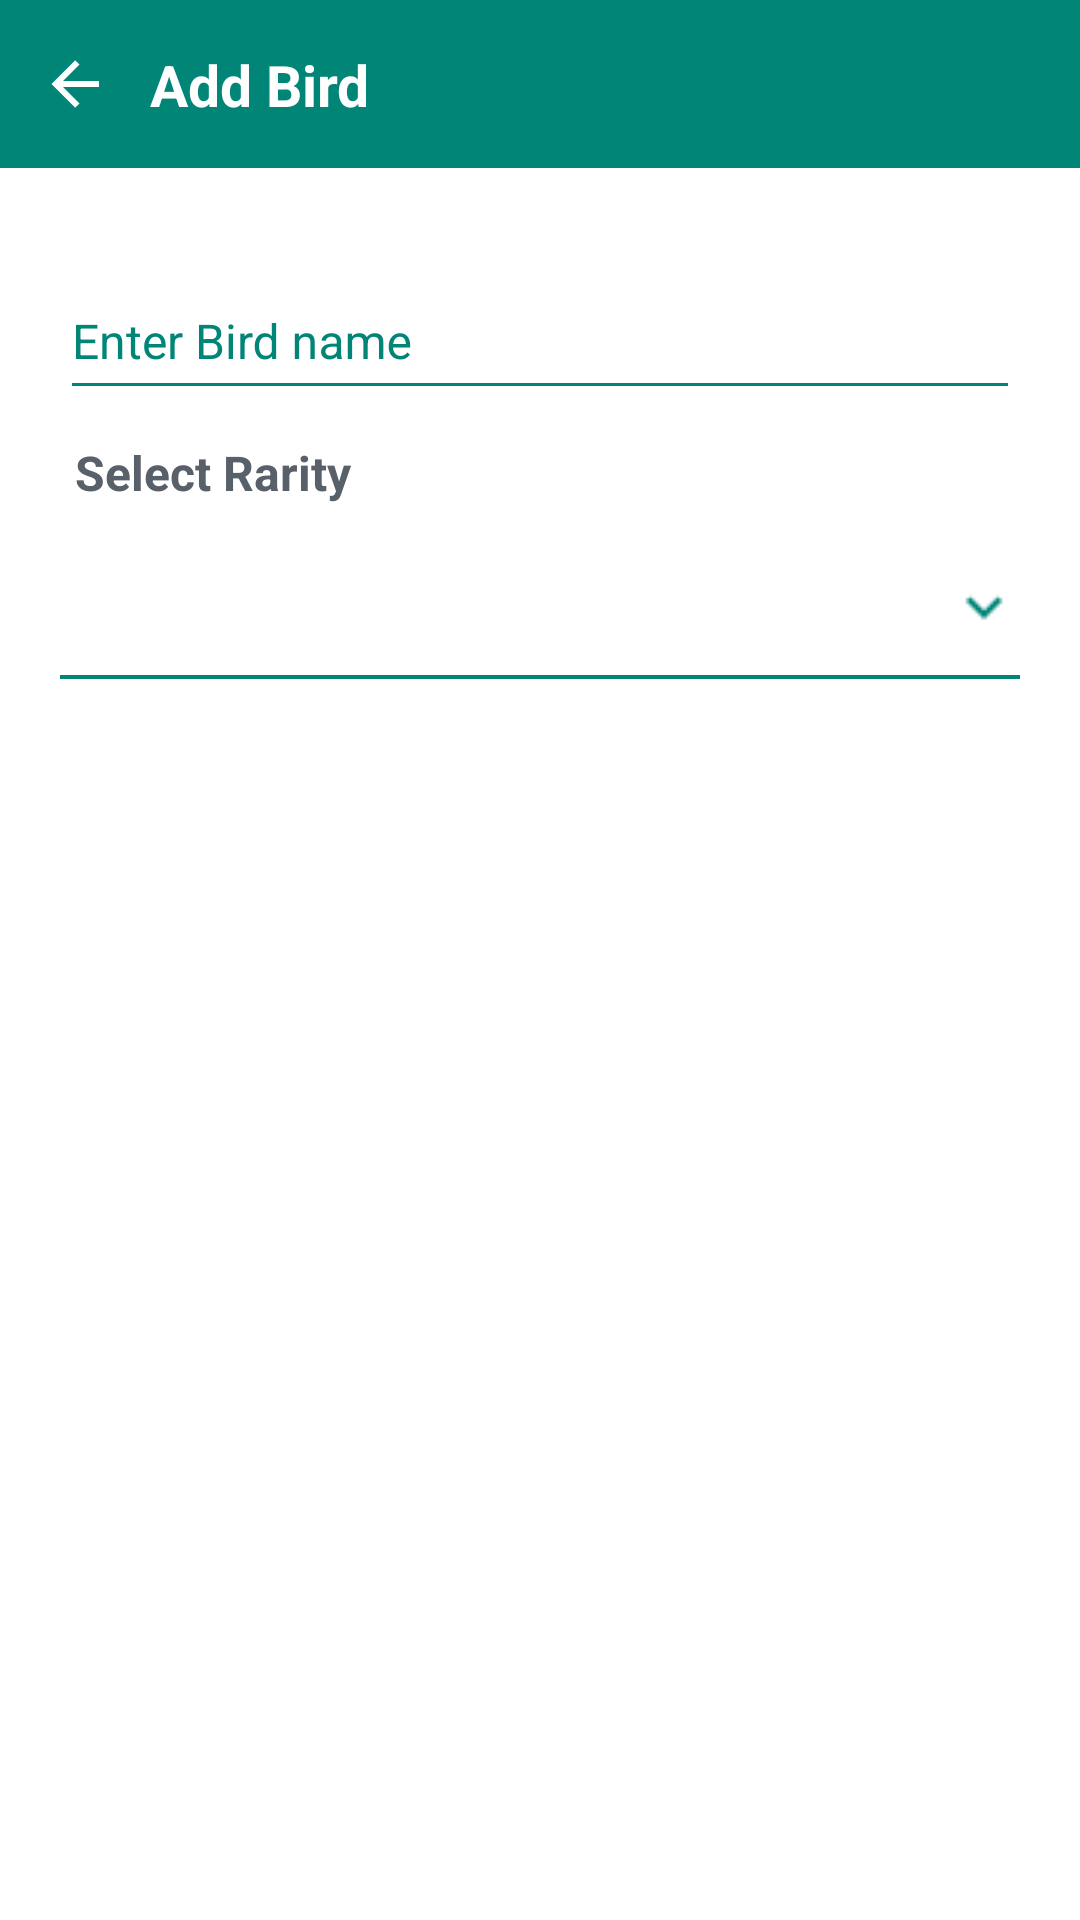

Point at icon controls on the screen. Image size 1080px×1920px, points as (x=x, y=y).
back: (x=75, y=84)
